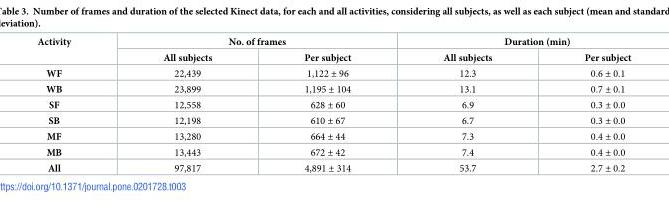table: (36, 36, 630, 174)
table column: (116, 36, 257, 174), (396, 36, 537, 174), (257, 36, 396, 174), (537, 36, 630, 174), (36, 36, 116, 174)
table column header: (36, 36, 630, 64)
table row: (36, 64, 630, 80), (36, 80, 630, 96), (36, 96, 630, 112), (36, 112, 630, 128), (36, 143, 630, 159), (36, 49, 630, 64), (36, 128, 630, 143), (36, 159, 630, 174), (36, 36, 630, 49)
table spanning cell: (116, 36, 396, 49), (396, 36, 630, 49), (36, 36, 116, 64)
